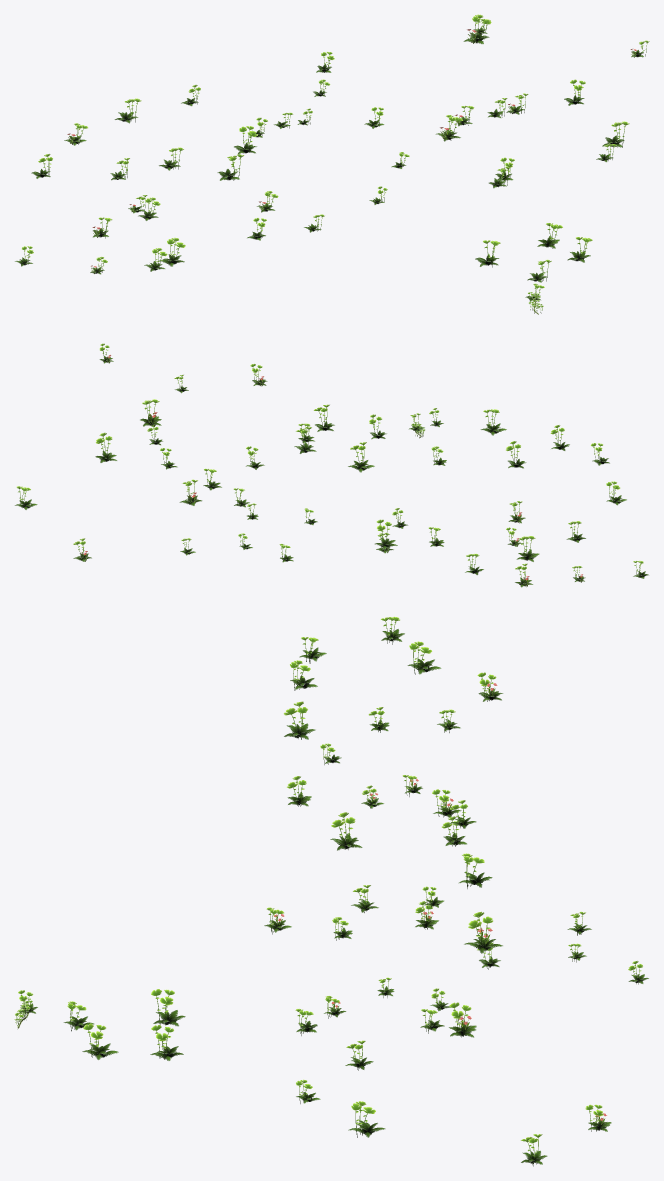
Rendered from Plane_Greenery.glb.
3 renders of one model, top to bottom at view 1: azimuth 30°, elevation 25°; view 2: azimuth 150°, elevation 25°; view 3: azimuth 270°, elevation 25°, orthographic. The views are drawn at different scales.
Size of the model in its own units: 23.86 by 6.34 by 15.88.
5 materials, 4 textured.
